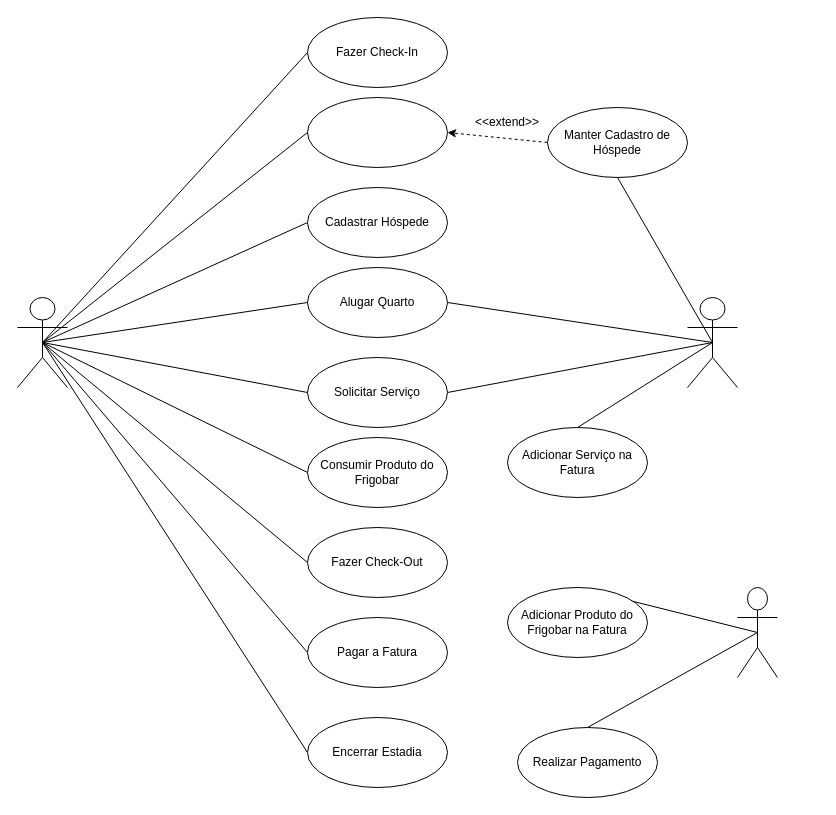
Some shapes in this 836 by 815 pixel diagram are drawn without their labels. Each missing label, with the box of its shape:
Fazer Reserva: (306, 96, 448, 168)
Funcionário do Hotel: (686, 296, 738, 388)
Hóspede: (16, 296, 68, 388)
Sistema de pagamento: (736, 586, 778, 678)
